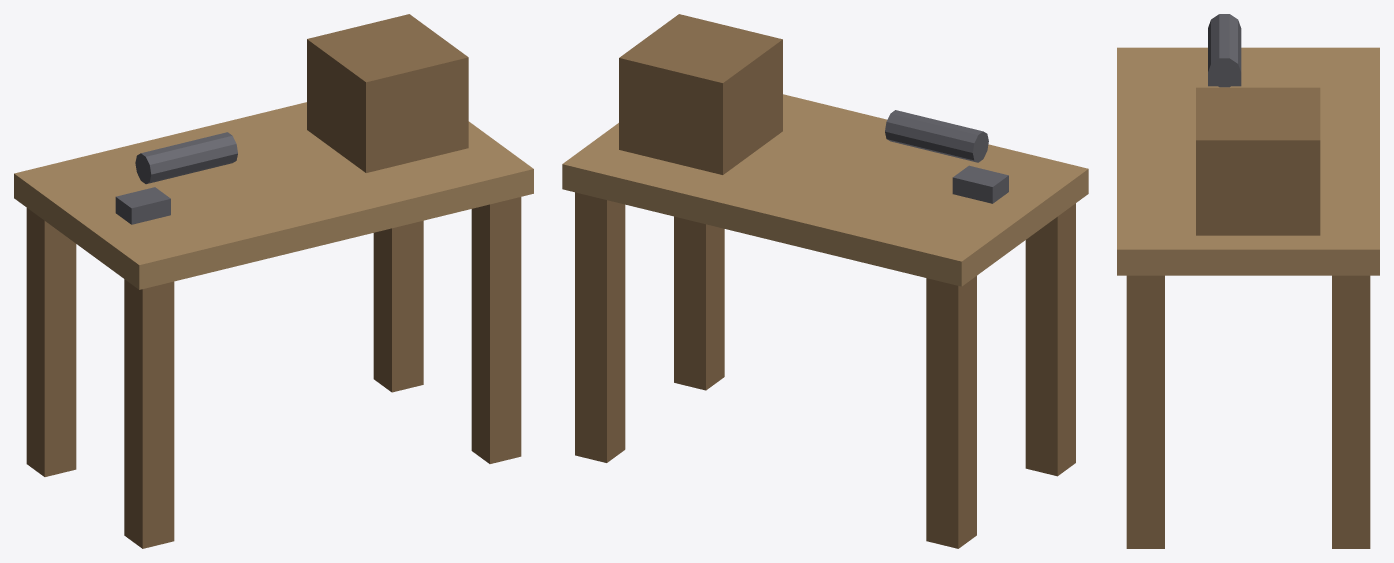
The model's file is station_crafting_bench.glb.
3 renders of one model, left to right at view 1: azimuth 30°, elevation 25°; view 2: azimuth 150°, elevation 25°; view 3: azimuth 270°, elevation 25°, orthographic. The views are drawn at different scales.
Visible parts, largest first — view 1: station_crafting_bench; view 2: station_crafting_bench; view 3: station_crafting_bench.
Part boxes in pixels (x1,y1,x2,y2): station_crafting_bench: [14, 14, 533, 548]; station_crafting_bench: [562, 14, 1088, 548]; station_crafting_bench: [1117, 14, 1379, 548].
Size of the model in its own units: 1 by 0.92 by 0.55.
